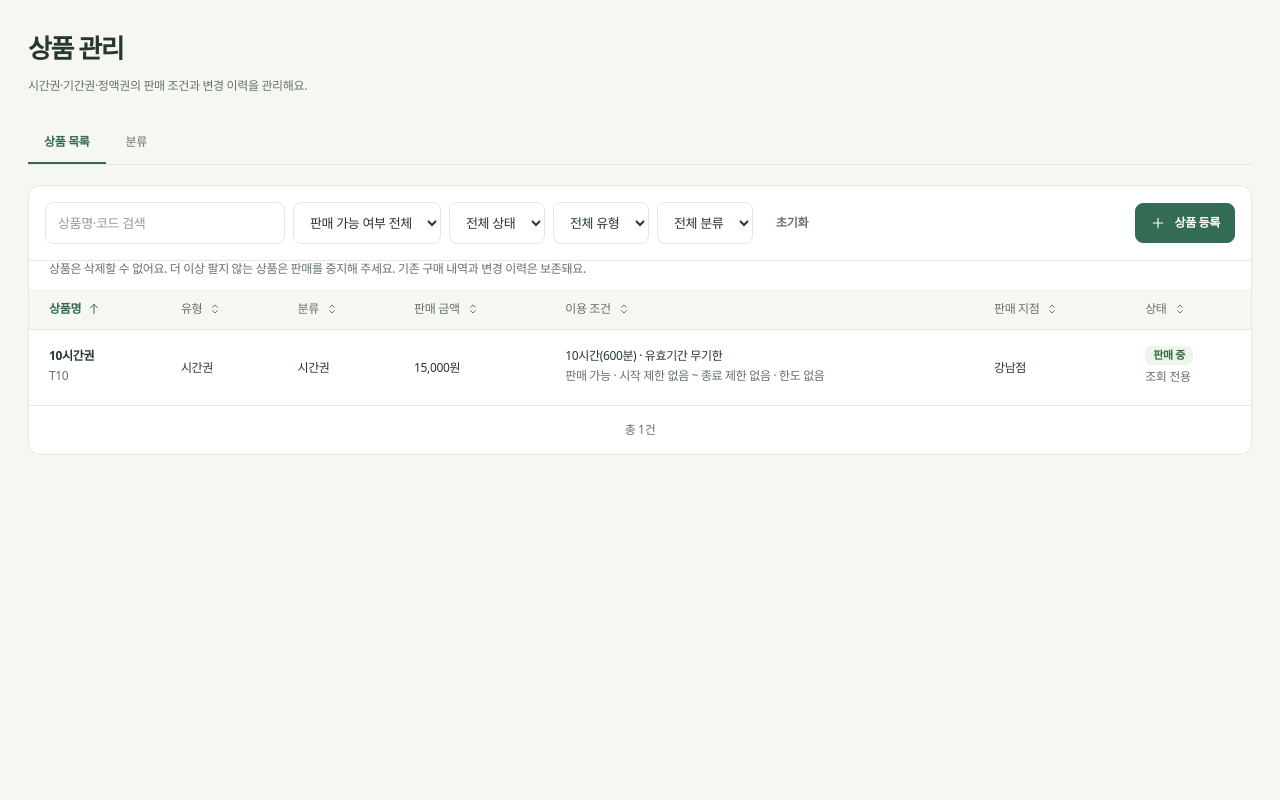
explains a read-only shared product and hides every write control
Click the button "10시간권" at (72, 356), box x1=49 y1=348 x2=94 y2=364
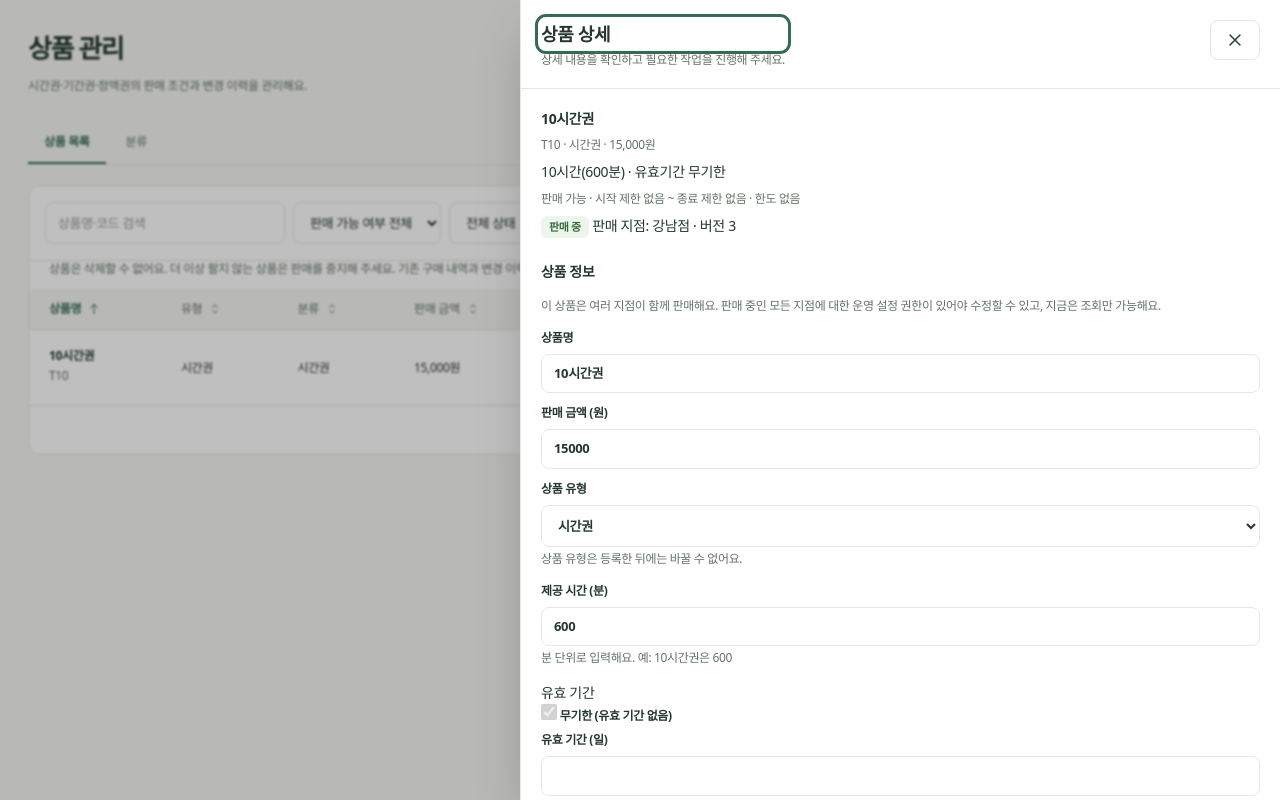
Result: the text "모든 지점에 대한 운영 설정 권한" is shown at x1=541 y1=297 x2=1161 y2=314
Result: the field labelled "판매 금액 (원)" is disabled at x1=541 y1=429 x2=1260 y2=469
